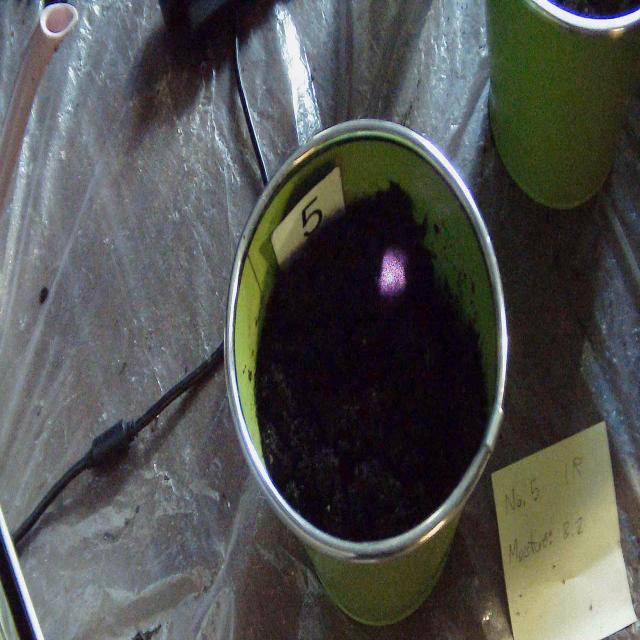soil-moisture-8.2: (378, 246, 407, 298)
